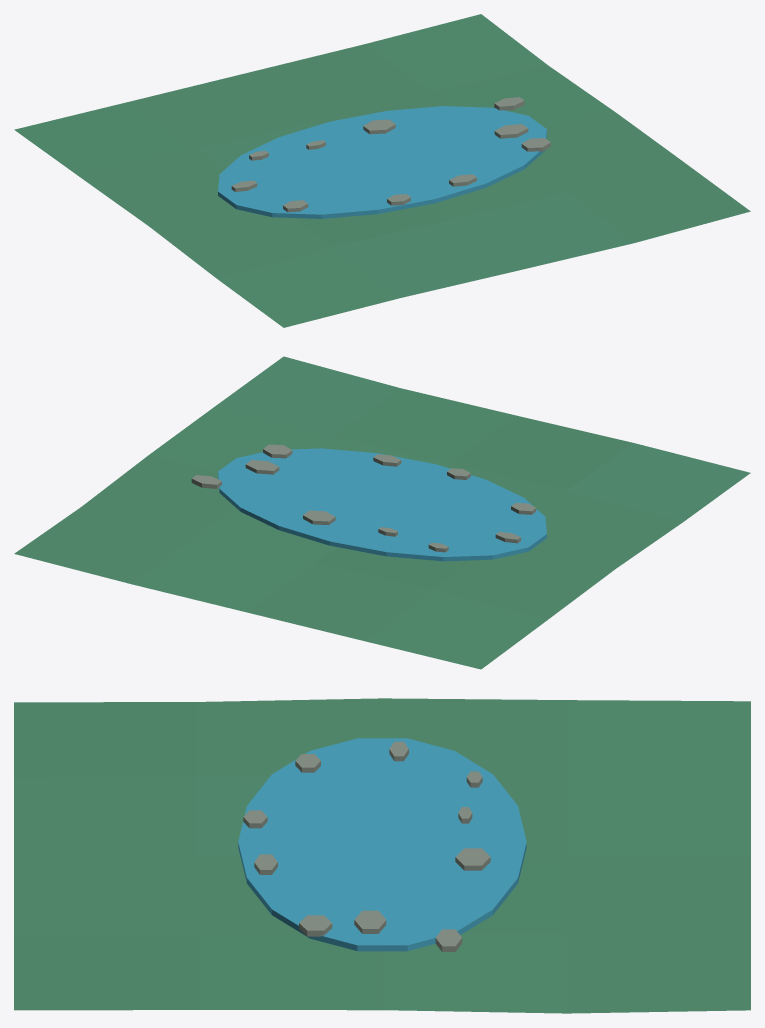
File: terrain-water-pool.low.glb
3 views of the same model, one above another, from view 1: azimuth 30°, elevation 25°; view 2: azimuth 150°, elevation 25°; view 3: azimuth 270°, elevation 25° (orthographic). The views are drawn at different scales.
Parts seen in each view (by area): view 1: terrain_pool_grass_base, terrain_pool_water; view 2: terrain_pool_grass_base, terrain_pool_water; view 3: terrain_pool_grass_base, terrain_pool_water, terrain_pool_stone_02, terrain_pool_stone_00, terrain_pool_stone_09.
Part boxes in pixels (x1,y1,x2,y2): terrain_pool_grass_base: (14,14,750,327); terrain_pool_water: (218,106,546,218); terrain_pool_grass_base: (14,356,750,669); terrain_pool_water: (218,448,546,561); terrain_pool_grass_base: (14,698,750,1013); terrain_pool_water: (238,738,526,951); terrain_pool_stone_02: (455,848,490,870); terrain_pool_stone_00: (354,910,386,933); terrain_pool_stone_09: (299,915,332,936).
Bounding box in the file's own units: 4 × 0.1334 × 4.
